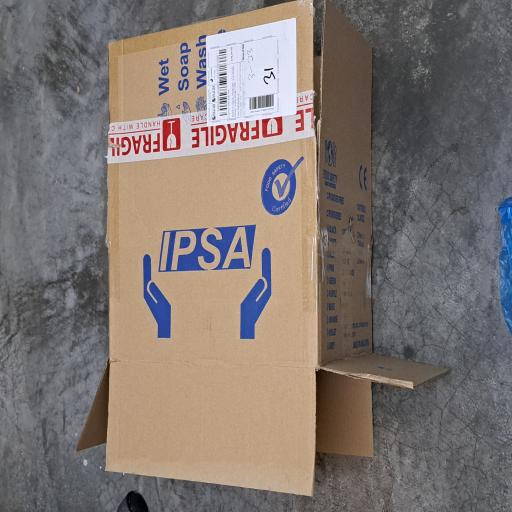cardboard: (13, 100, 384, 512)
